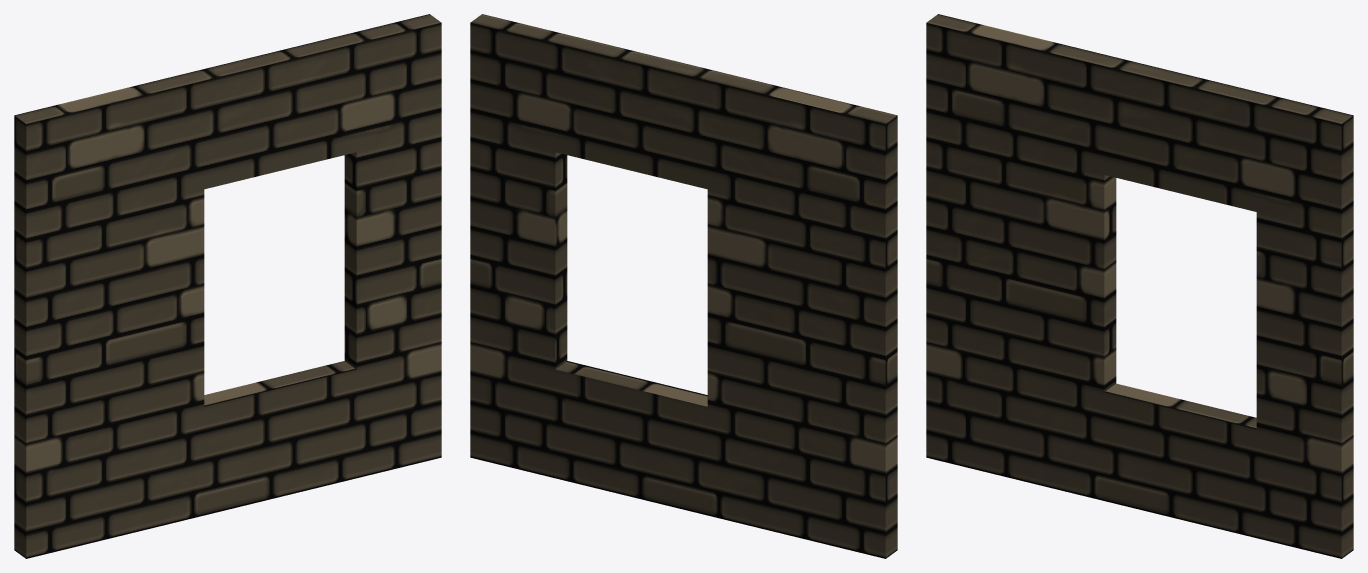
Rendered from Wall_2_D.fbx.
The picture shows the model from 3 angles, left to right: view 1: azimuth 30°, elevation 25°; view 2: azimuth 150°, elevation 25°; view 3: azimuth 330°, elevation 25°; orthographic projection.
Visible parts, largest first — view 1: pCube36; view 2: pCube36; view 3: pCube36.
Part boxes in pixels (bbox=[...]): pCube36: bbox=[14, 14, 441, 558]; pCube36: bbox=[470, 14, 897, 558]; pCube36: bbox=[926, 14, 1353, 558].
Size of the model in its own units: 4 by 4 by 0.2.
